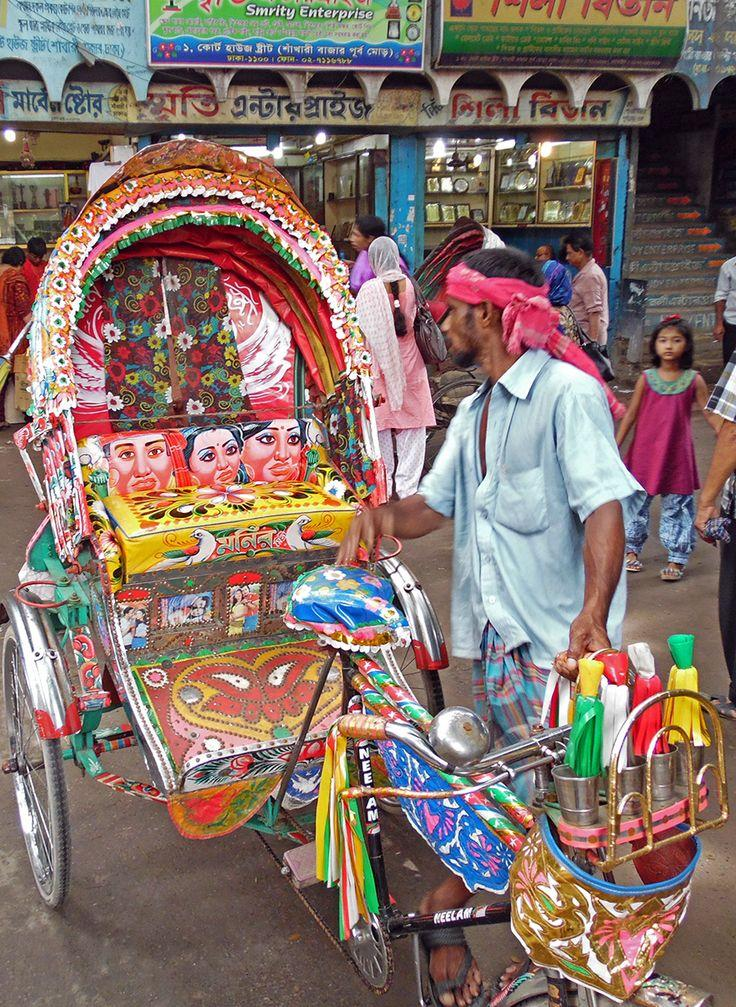Rickshaw: (0, 122, 733, 1003)
